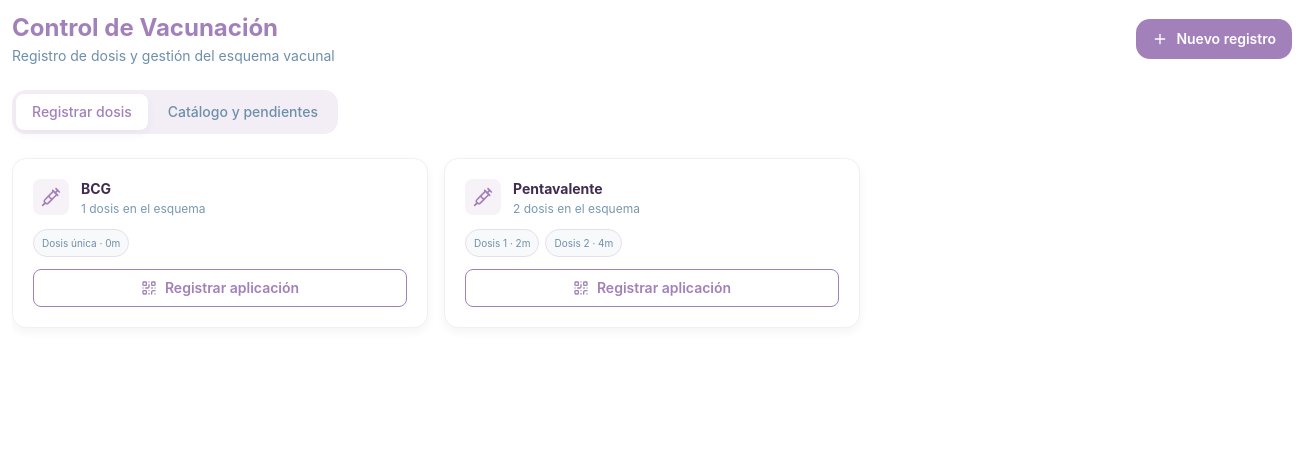
Test: VaccinationView – catálogo y pendientes › lista cada dosis y pide seleccionar una
The image size is (1304, 468).
Check: the heading "Control de Vacunación" is shown, box x1=12 y1=13 x2=278 y2=42
Click the button "Catálogo y pendientes" at (243, 112), box x1=152 y1=94 x2=334 y2=130
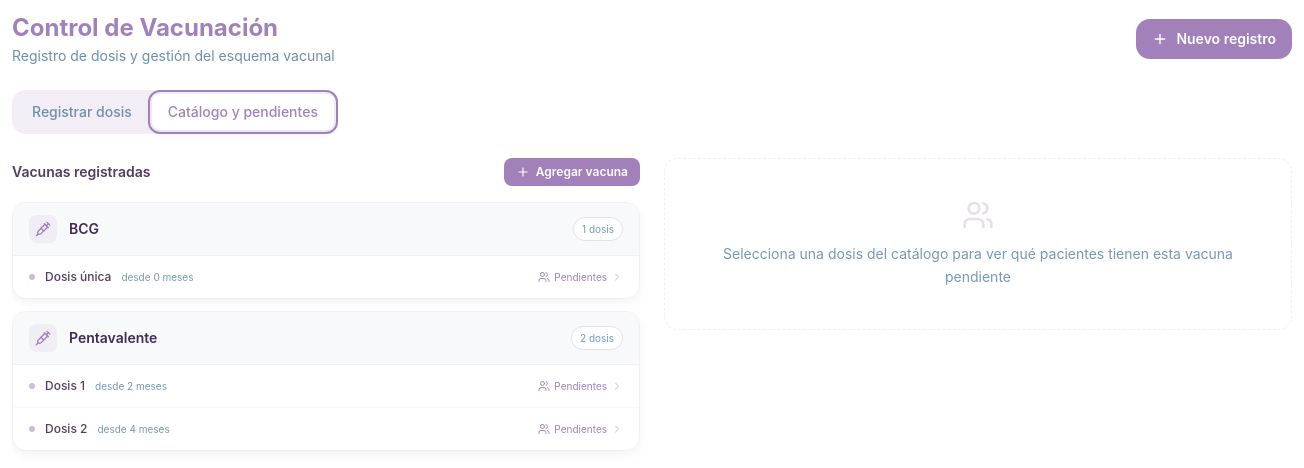
Check: the heading "Vacunas registradas" is shown, box x1=12 y1=162 x2=150 y2=182
Check: the text "desde 4 meses" is shown, box x1=98 y1=420 x2=170 y2=438
Check: the text "Selecciona una dosis del catálogo" is shown, box x1=723 y1=245 x2=1233 y2=285
